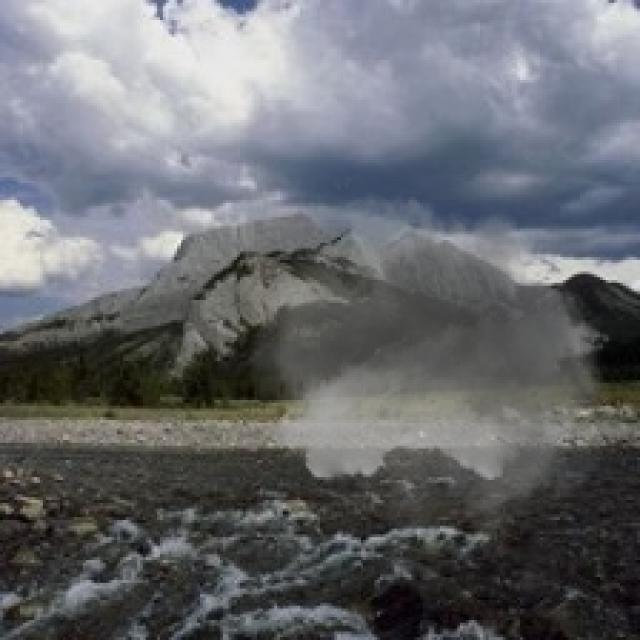smoke: (248, 177, 623, 557)
